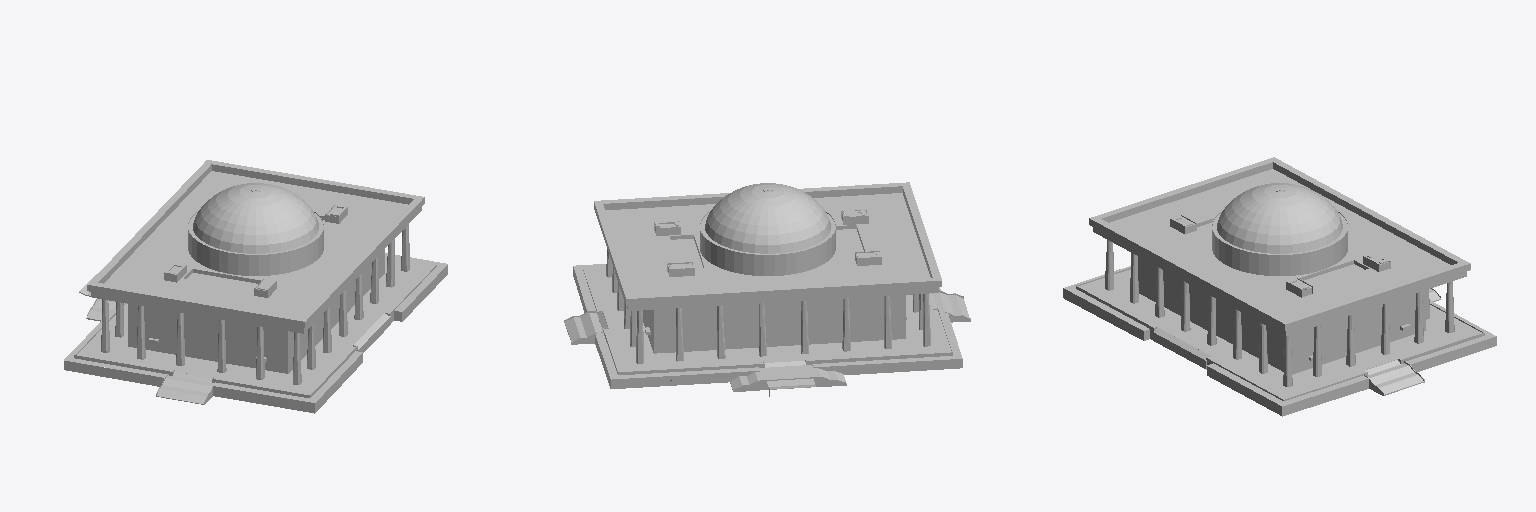
File: national2.obj
3 renders of one model, left to right at view 1: azimuth 30°, elevation 25°; view 2: azimuth 150°, elevation 25°; view 3: azimuth 270°, elevation 25°, orthographic.
Visible parts, largest first — view 1: bldg721; view 2: bldg721; view 3: bldg721.
Part boxes in pixels (x1,y1,x2,y2): bldg721: (64,160,447,413); bldg721: (564,182,970,396); bldg721: (1063,157,1496,416).
Bounding box in the file's own units: 217 × 70.96 × 210.